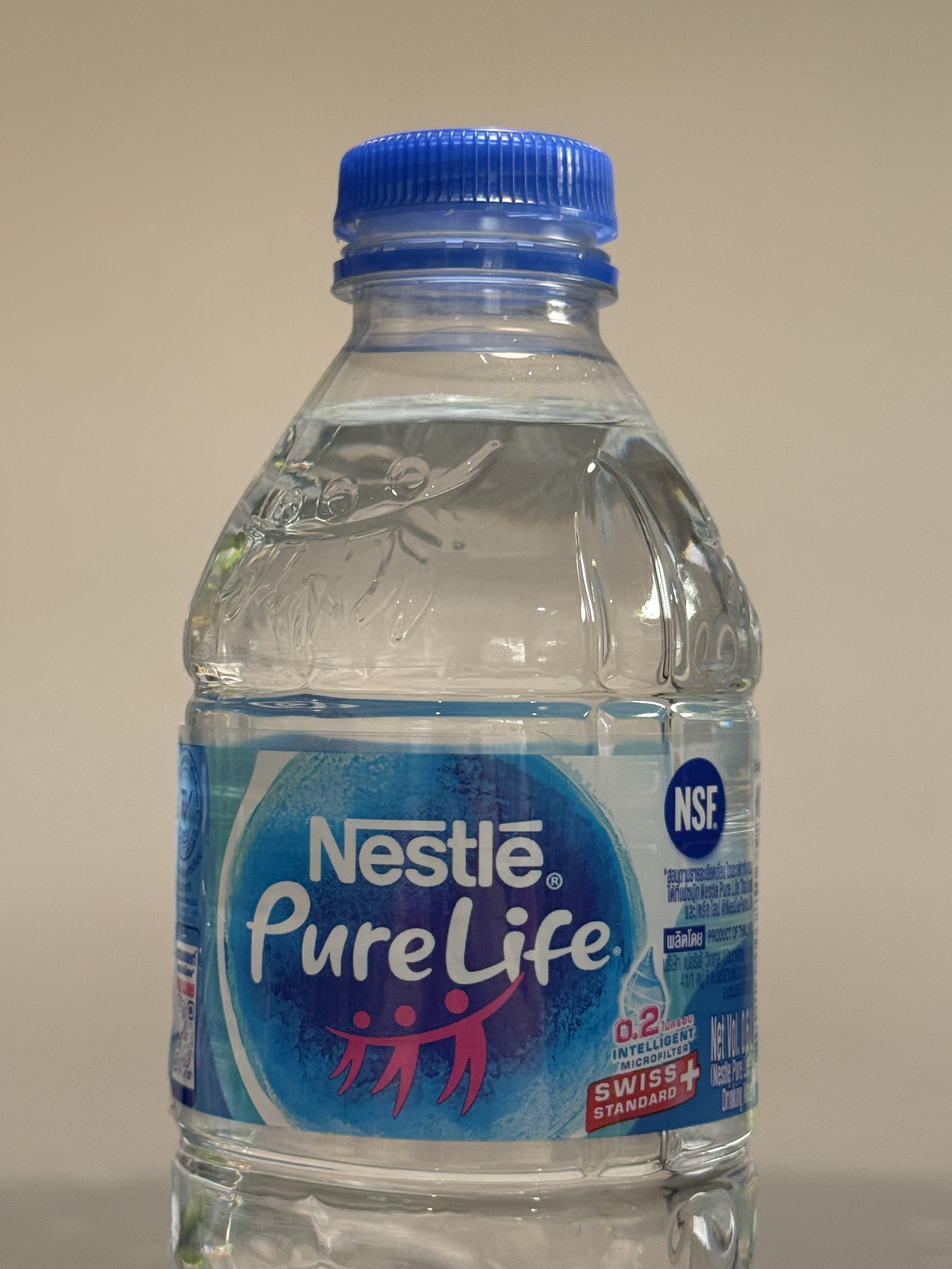half_cap: (320, 119, 628, 307)
